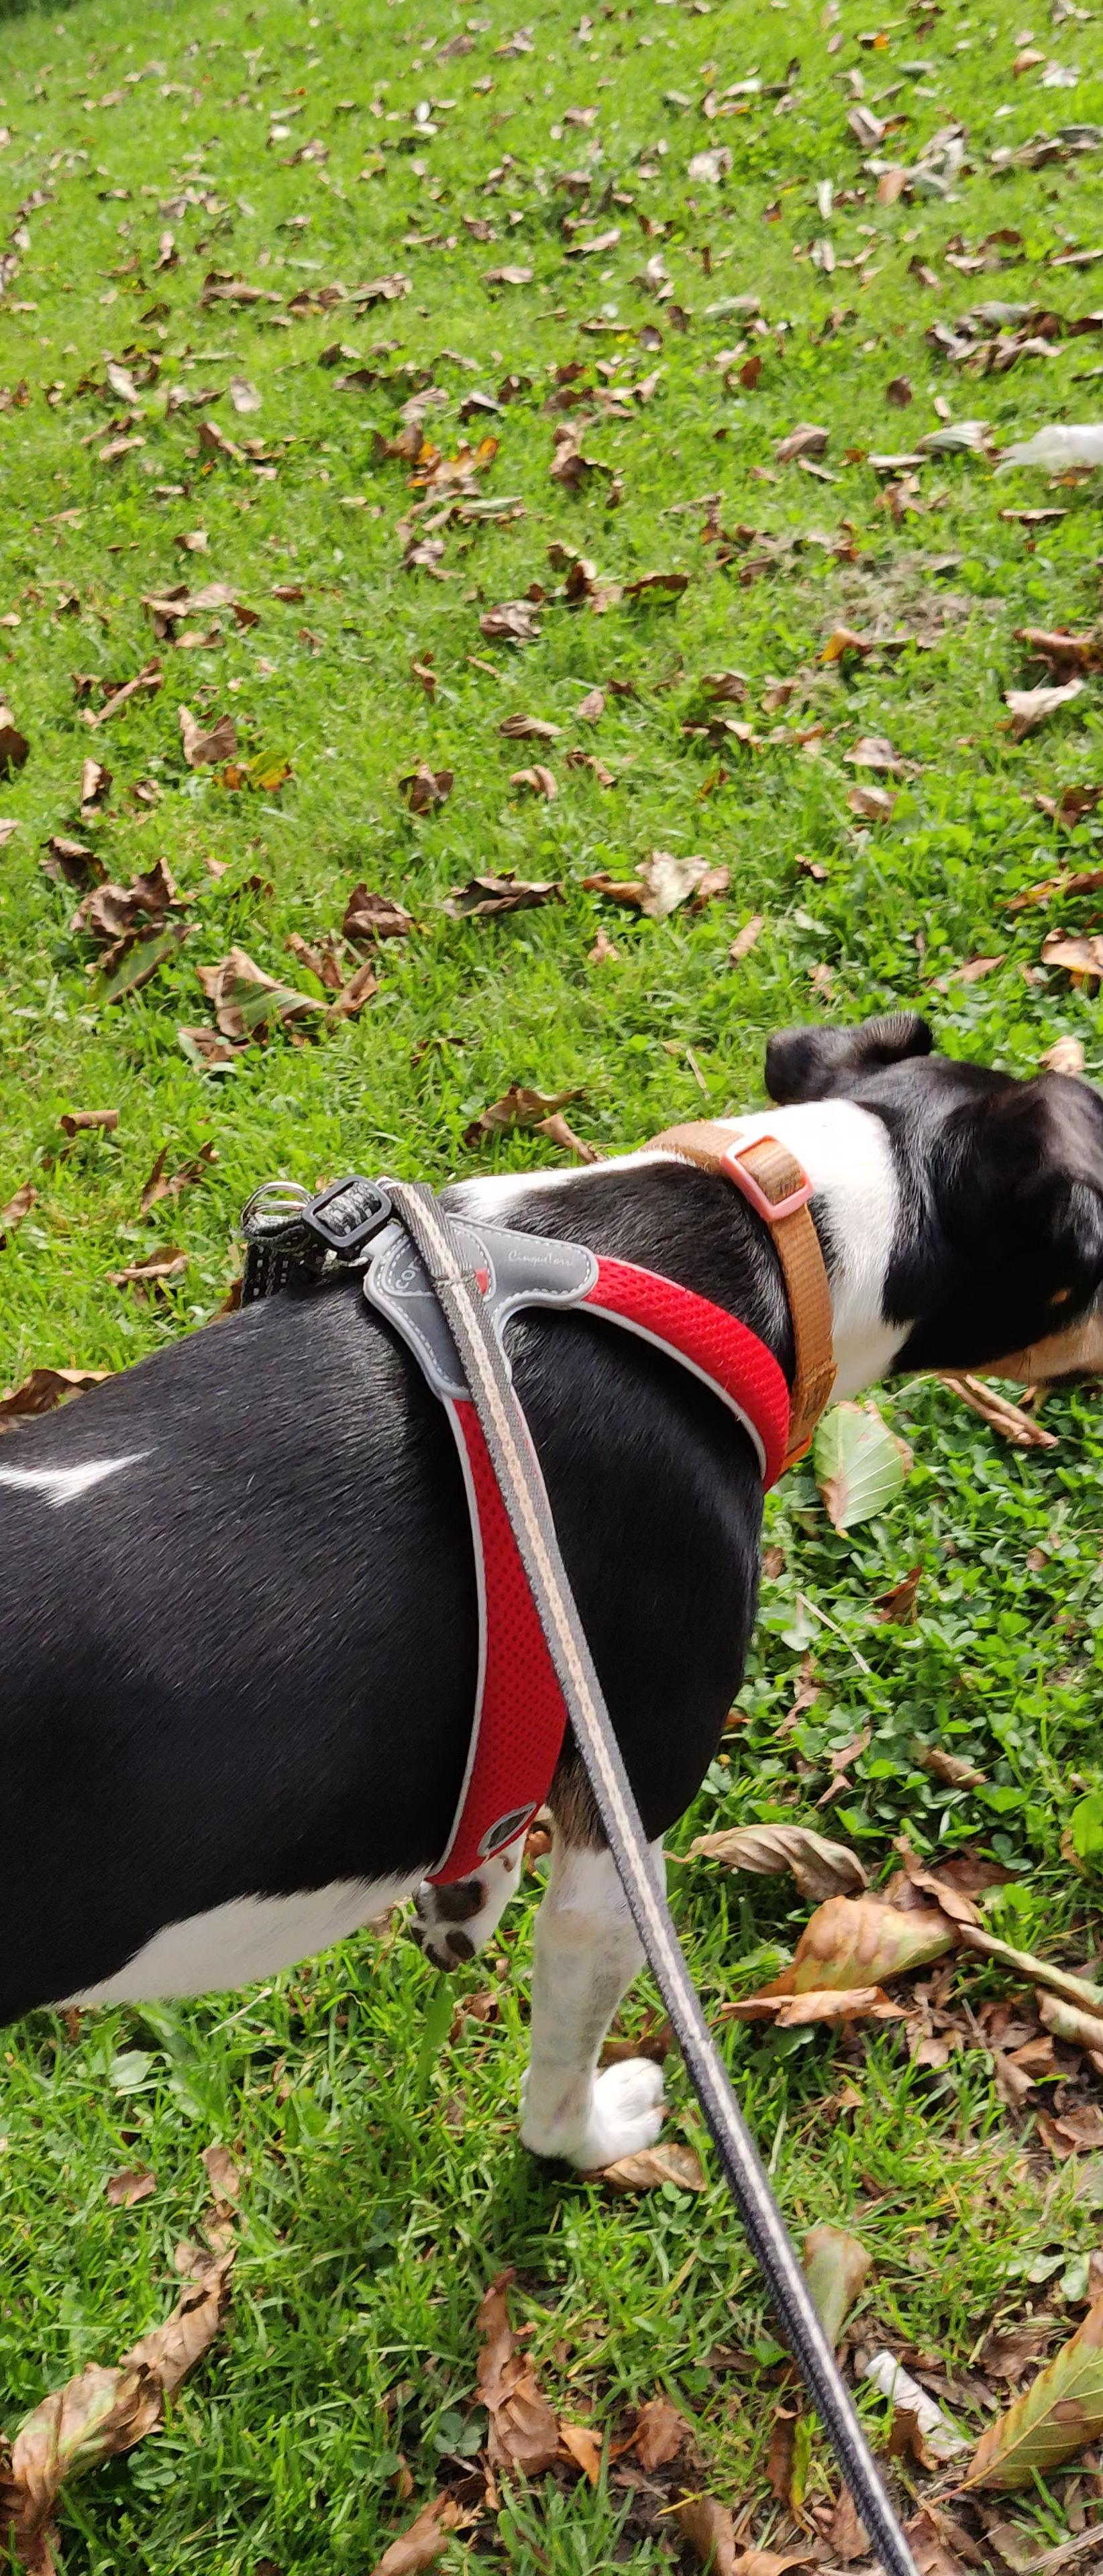Dog: (0, 968, 1103, 2195)
